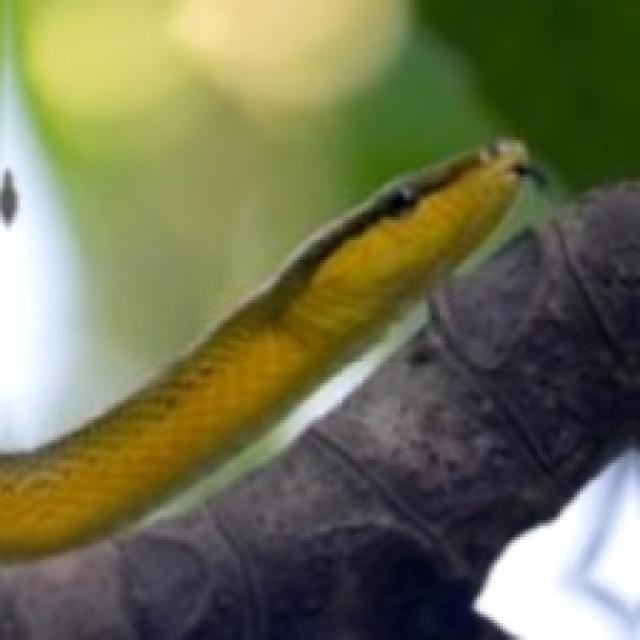red-tailed green ratsnake: (0, 140, 526, 560)
